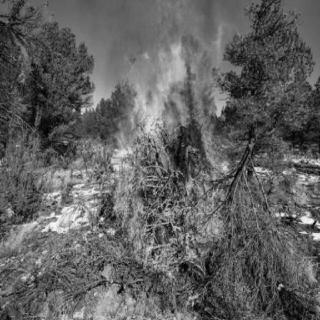Fire: (112, 56, 236, 264)
